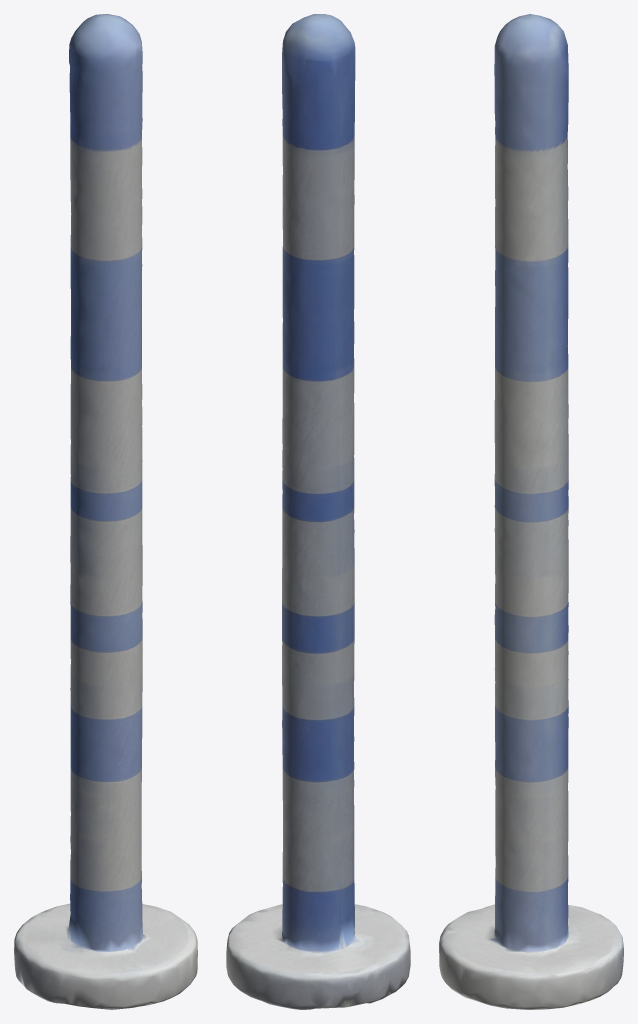
The model's file is Agility_WeavePole.fbx.
The picture shows the model from 3 angles, left to right: view 1: azimuth 30°, elevation 25°; view 2: azimuth 150°, elevation 25°; view 3: azimuth 270°, elevation 25°; orthographic projection.
Visible parts, largest first — view 1: texture_mapping; view 2: texture_mapping; view 3: texture_mapping.
Boxes of the visible parts, x1,y1,x2,y2 form: texture_mapping: (14, 14, 197, 1009); texture_mapping: (226, 14, 410, 1009); texture_mapping: (439, 14, 623, 1009).
Bounding box in the file's own units: 0.1732 × 0.1742 × 0.9937.
1 material, 1 textured.
